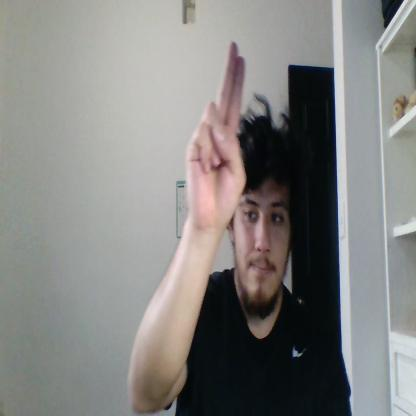U: (186, 42, 246, 226)
